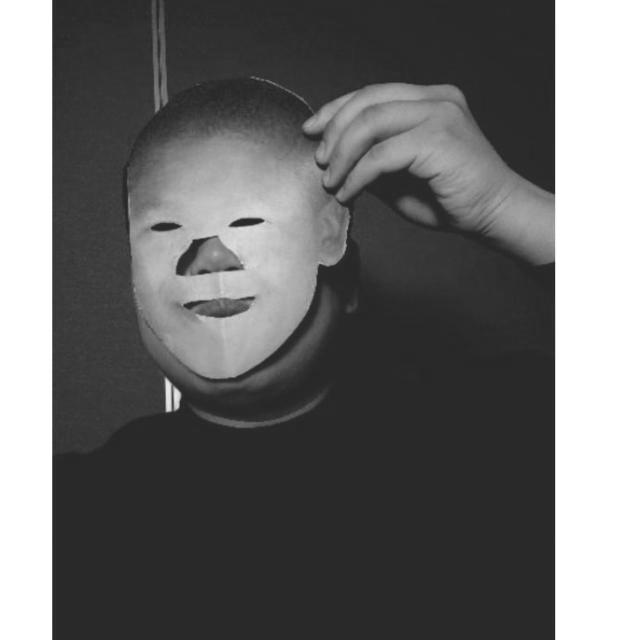fake: (118, 70, 358, 384)
